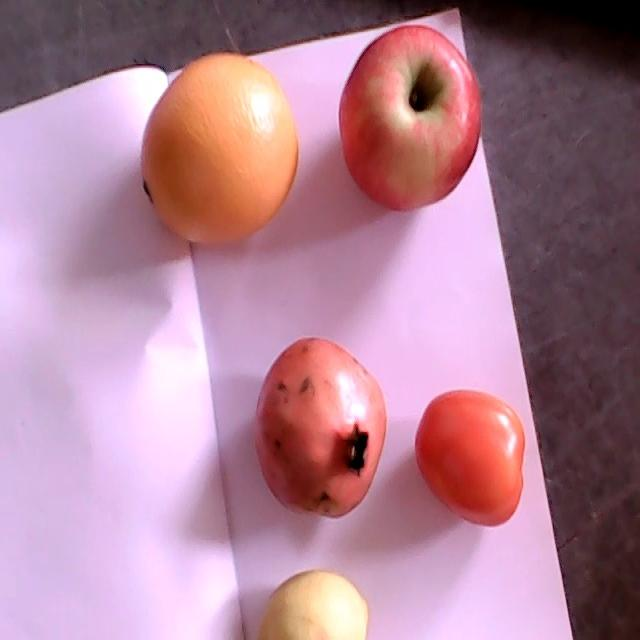apple: (339, 24, 482, 211)
lemon: (256, 570, 368, 639)
orange: (140, 51, 299, 243)
pomegranate: (253, 339, 388, 517)
tomato: (415, 391, 526, 526)
